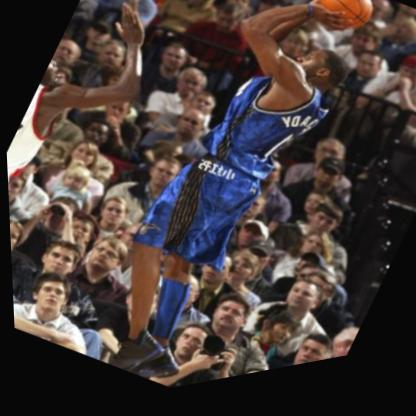basketball: (311, 0, 380, 55)
